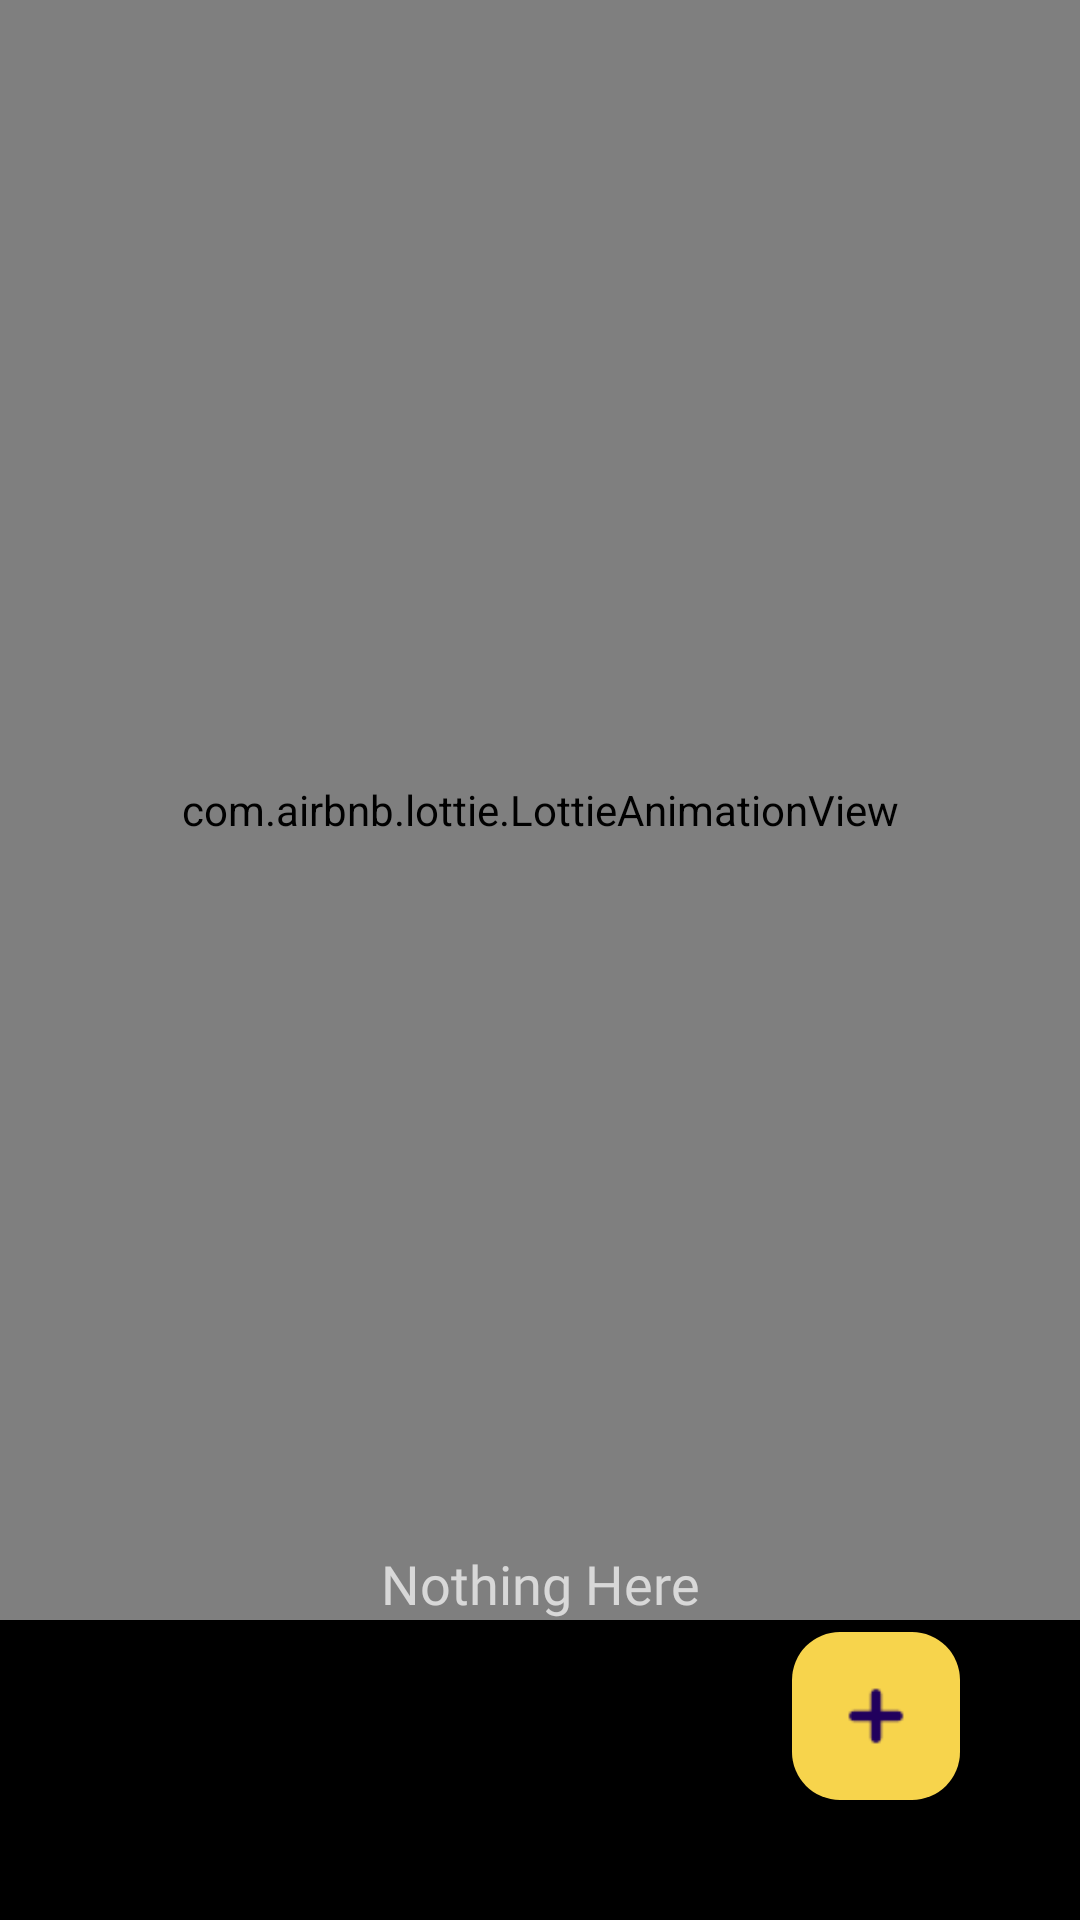

Icon bounding boxes for this 1080px x 1920px phone screenshot, format (x1, y1, x2, y2):
add: (792, 1632, 960, 1800)
